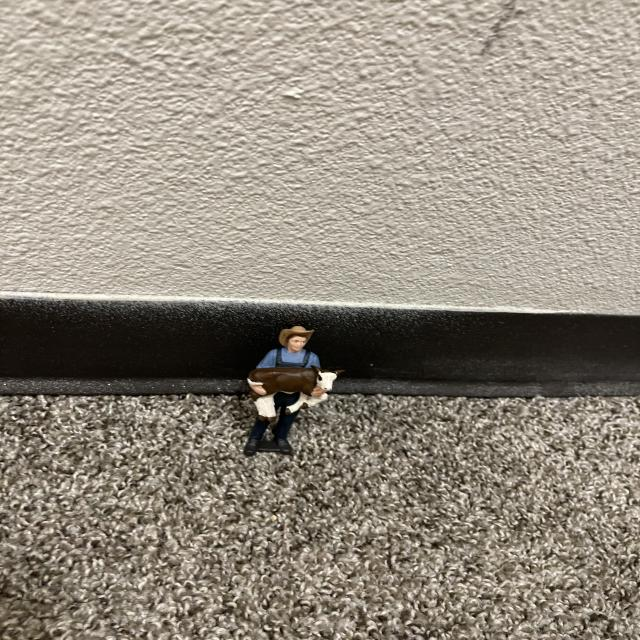cow: (247, 367, 337, 410), (255, 397, 276, 420)
person: (257, 326, 319, 367)
